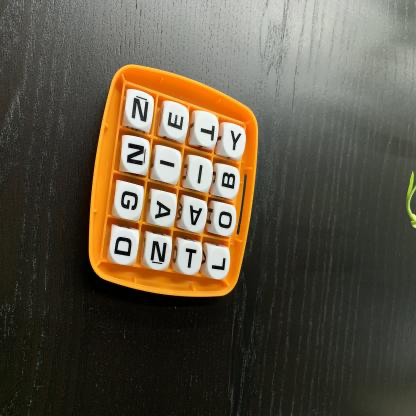a: (152, 192, 177, 227), (184, 199, 207, 233)
b: (218, 166, 241, 199)
d: (110, 229, 139, 266)
e: (164, 104, 190, 139)
g: (116, 183, 144, 220)
i: (157, 147, 182, 183), (190, 158, 214, 192)
l: (209, 247, 231, 280)
n: (126, 92, 155, 129), (122, 138, 151, 174), (146, 235, 172, 271)
o: (214, 204, 237, 237)
t: (195, 113, 220, 148), (179, 242, 203, 276)
y: (224, 124, 247, 159)
